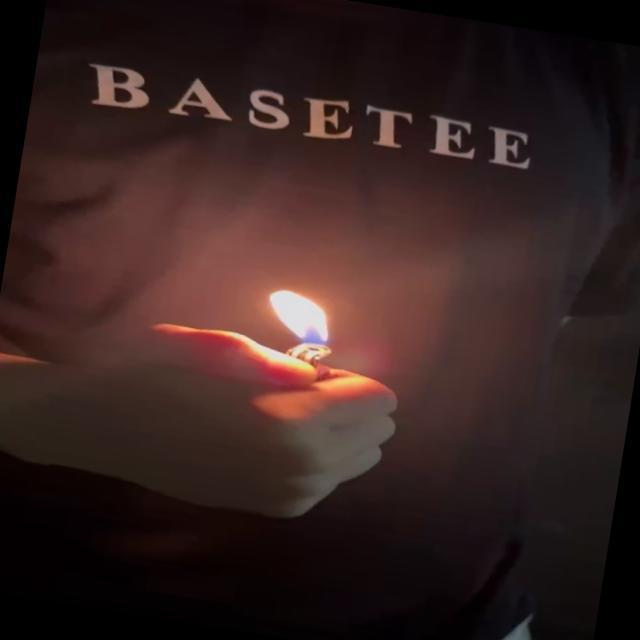Fire: (263, 288, 340, 358)
